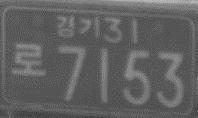1: (89, 46, 118, 103), (126, 16, 143, 45)
3: (156, 50, 185, 108), (103, 16, 122, 45)
5: (122, 50, 152, 105)
7: (57, 45, 86, 101)
경기_O: (55, 14, 100, 38)
로: (11, 42, 47, 76)
